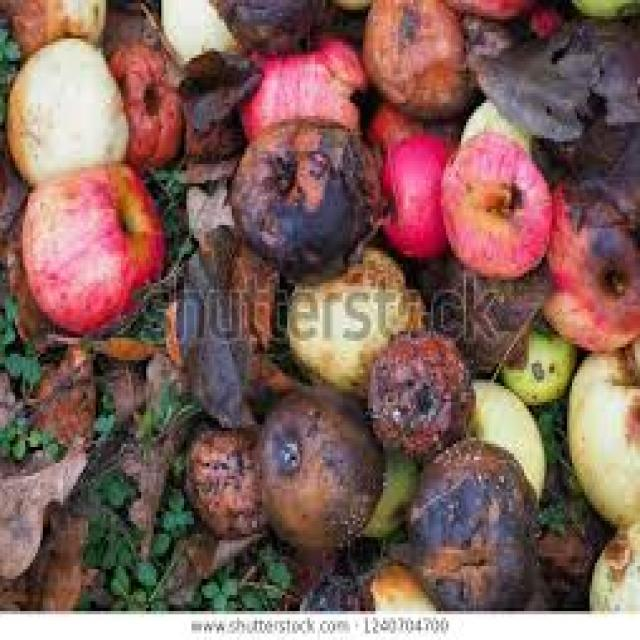organic waste: (0, 0, 637, 608), (227, 113, 388, 270), (18, 164, 161, 331), (401, 434, 534, 608), (0, 341, 86, 608), (174, 219, 285, 421), (461, 10, 638, 132), (252, 382, 378, 546), (290, 238, 426, 386), (3, 32, 126, 187), (534, 174, 638, 347), (438, 132, 550, 273), (237, 32, 365, 142), (564, 338, 638, 524), (358, 0, 473, 116), (365, 328, 474, 450), (0, 438, 86, 586), (532, 128, 638, 232), (106, 35, 181, 164), (532, 402, 604, 531), (184, 412, 262, 530), (118, 399, 184, 537), (466, 370, 539, 492), (378, 128, 451, 250), (146, 527, 265, 595), (209, 0, 358, 48), (496, 312, 574, 399), (176, 45, 257, 125), (358, 447, 418, 537), (0, 0, 103, 48), (584, 521, 638, 608), (532, 524, 587, 608), (295, 547, 370, 608), (456, 97, 529, 151), (363, 553, 433, 608), (93, 367, 141, 431), (363, 96, 421, 148), (451, 0, 534, 19), (567, 0, 637, 16), (524, 7, 557, 36)
